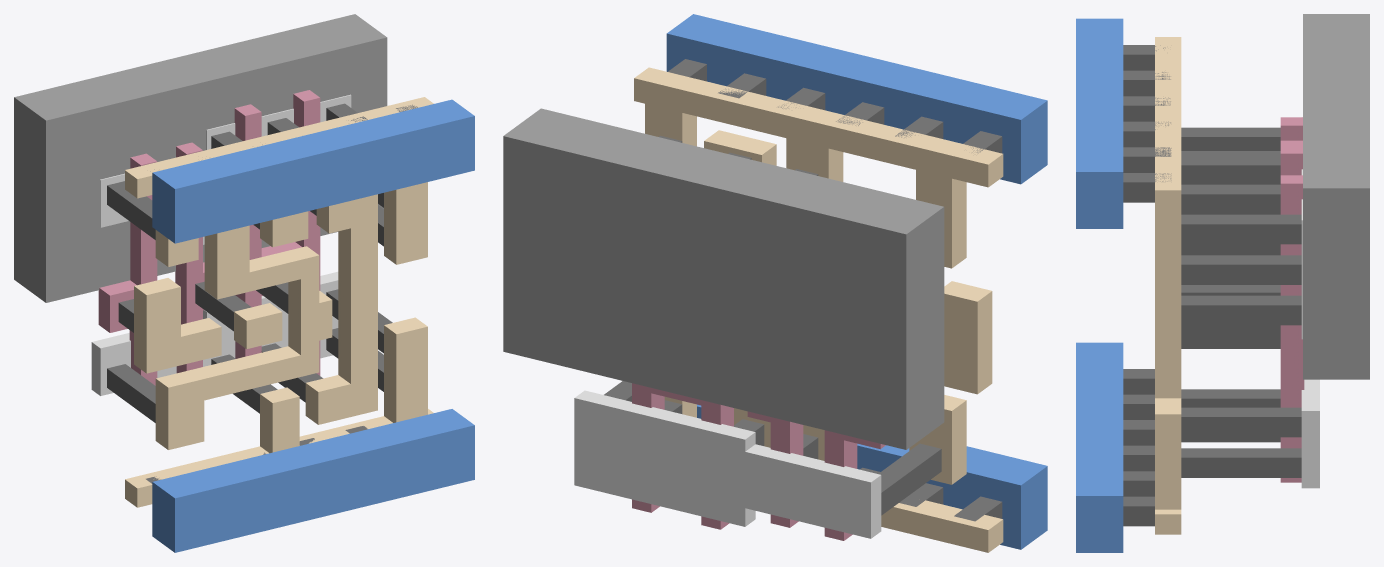
The model's file is sky130_fd_sc_hd__and2_2.gds.gltf.
3 views of the same model, side by side, from view 1: azimuth 30°, elevation 25°; view 2: azimuth 150°, elevation 25°; view 3: azimuth 270°, elevation 25° (orthographic). The views are drawn at different scales.
Parts seen in each view (by area): view 1: sky130_fd_sc_hd__and2_2_li1, sky130_fd_sc_hd__and2_2_met1, sky130_fd_sc_hd__and2_2_nwell, sky130_fd_sc_hd__and2_2_poly, sky130_fd_sc_hd__and2_2_licon, sky130_fd_sc_hd__and2_2_diff; view 2: sky130_fd_sc_hd__and2_2_nwell, sky130_fd_sc_hd__and2_2_li1, sky130_fd_sc_hd__and2_2_met1, sky130_fd_sc_hd__and2_2_diff, sky130_fd_sc_hd__and2_2_mcon, sky130_fd_sc_hd__and2_2_poly, sky130_fd_sc_hd__and2_2_licon; view 3: sky130_fd_sc_hd__and2_2_licon, sky130_fd_sc_hd__and2_2_nwell, sky130_fd_sc_hd__and2_2_met1, sky130_fd_sc_hd__and2_2_li1, sky130_fd_sc_hd__and2_2_mcon, sky130_fd_sc_hd__and2_2_poly, sky130_fd_sc_hd__and2_2_diff.
Boxes of the visible parts, left/top/right/bottom form: sky130_fd_sc_hd__and2_2_li1: left=125, top=97, right=433, bottom=507; sky130_fd_sc_hd__and2_2_met1: left=152, top=99, right=474, bottom=552; sky130_fd_sc_hd__and2_2_nwell: left=14, top=14, right=387, bottom=302; sky130_fd_sc_hd__and2_2_poly: left=98, top=90, right=320, bottom=385; sky130_fd_sc_hd__and2_2_licon: left=107, top=103, right=392, bottom=422; sky130_fd_sc_hd__and2_2_diff: left=91, top=94, right=351, bottom=395; sky130_fd_sc_hd__and2_2_nwell: left=503, top=108, right=944, bottom=449; sky130_fd_sc_hd__and2_2_li1: left=634, top=67, right=1003, bottom=552; sky130_fd_sc_hd__and2_2_met1: left=666, top=14, right=1047, bottom=549; sky130_fd_sc_hd__and2_2_diff: left=574, top=390, right=881, bottom=538; sky130_fd_sc_hd__and2_2_mcon: left=668, top=59, right=1002, bottom=521; sky130_fd_sc_hd__and2_2_poly: left=632, top=383, right=885, bottom=540; sky130_fd_sc_hd__and2_2_licon: left=604, top=135, right=941, bottom=515; sky130_fd_sc_hd__and2_2_licon: left=1181, top=127, right=1301, bottom=477; sky130_fd_sc_hd__and2_2_nwell: left=1303, top=14, right=1369, bottom=379; sky130_fd_sc_hd__and2_2_met1: left=1076, top=18, right=1123, bottom=552; sky130_fd_sc_hd__and2_2_li1: left=1155, top=37, right=1181, bottom=534; sky130_fd_sc_hd__and2_2_mcon: left=1123, top=45, right=1171, bottom=526; sky130_fd_sc_hd__and2_2_poly: left=1280, top=117, right=1304, bottom=482; sky130_fd_sc_hd__and2_2_diff: left=1301, top=117, right=1319, bottom=488.
Size of the model in its own units: 3.14 by 3.2 by 2.24.
